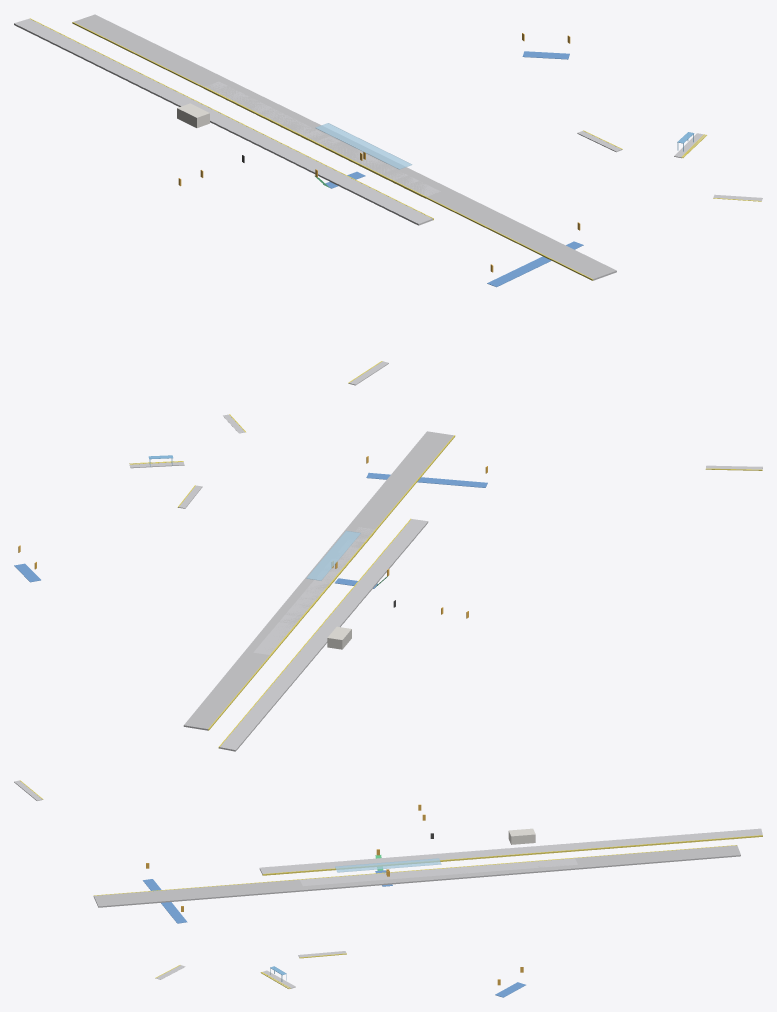
File: 8507002-ostermundigen.glb
3 renders of one model, top to bottom at view 1: azimuth 30°, elevation 25°; view 2: azimuth 150°, elevation 25°; view 3: azimuth 270°, elevation 25°, orthographic. The views are drawn at different scales.
Visible parts, largest first — view 1: platform_surface@0, platform_body@0, boarding_edge@0, passage@-1, roof@0; view 2: platform_body@0, platform_surface@0, boarding_edge@0, passage@-1, roof@0; view 3: platform_body@0, platform_surface@0, boarding_edge@0, roof@0, passage@-1, building_part@x.
Part boxes in pixels (box(x1,y1,x2,y2)): platform_surface@0: box(73, 14, 616, 280); platform_body@0: box(14, 18, 762, 385); boarding_edge@0: box(30, 18, 761, 383); passage@-1: box(323, 51, 583, 287); roof@0: box(315, 123, 412, 169); platform_body@0: box(129, 414, 762, 751); platform_surface@0: box(183, 431, 453, 730); boarding_edge@0: box(129, 414, 762, 748); passage@-1: box(14, 472, 487, 588); roof@0: box(306, 530, 360, 580); platform_body@0: box(14, 780, 762, 988); platform_surface@0: box(93, 845, 740, 907); boarding_edge@0: box(20, 780, 762, 988); roof@0: box(335, 858, 441, 872); passage@-1: box(143, 870, 525, 997); building_part@x: box(508, 828, 535, 844).
Bounding box in the file's own units: 184 × 9.12 × 280.
